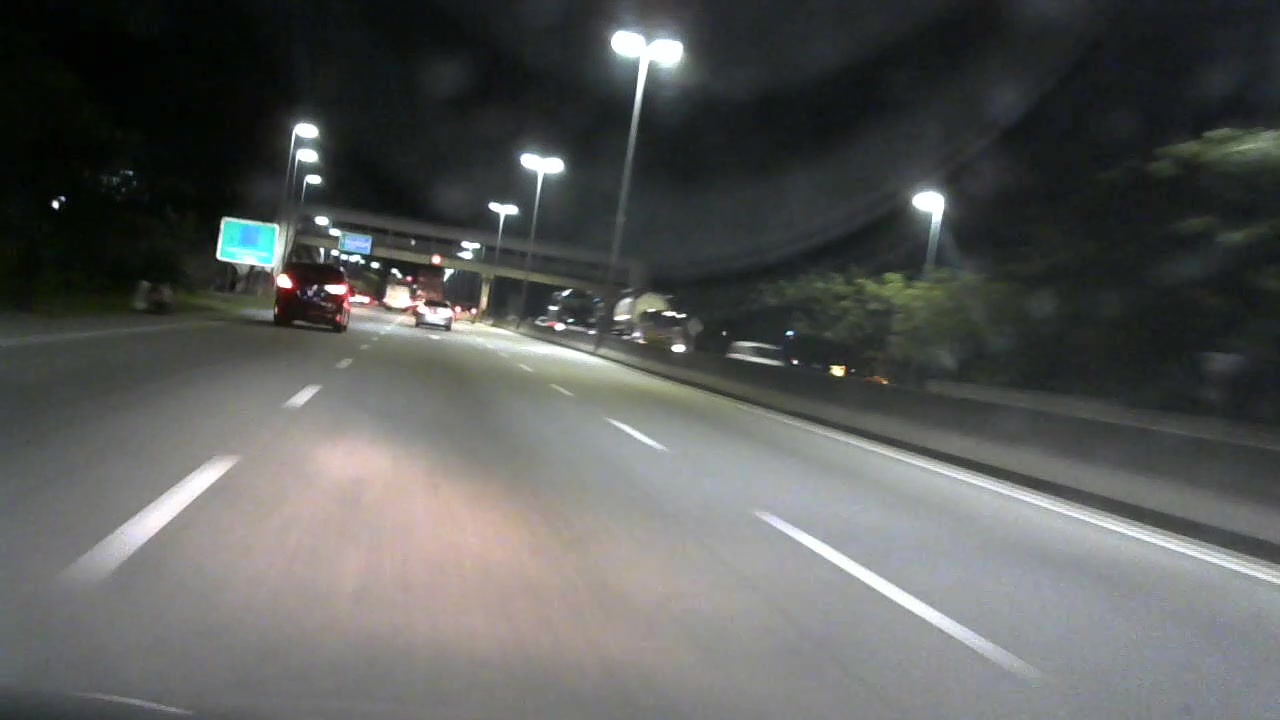Car: (266, 257, 355, 336), (410, 294, 457, 331)
